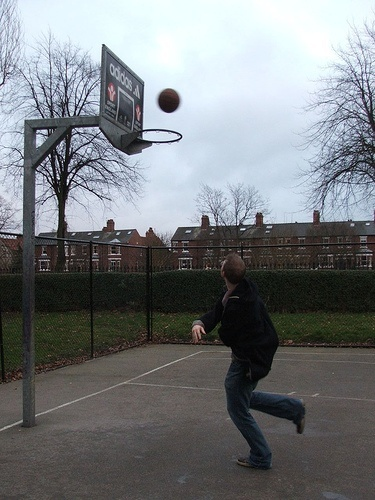head: (219, 255, 248, 288)
person: (189, 254, 306, 469)
